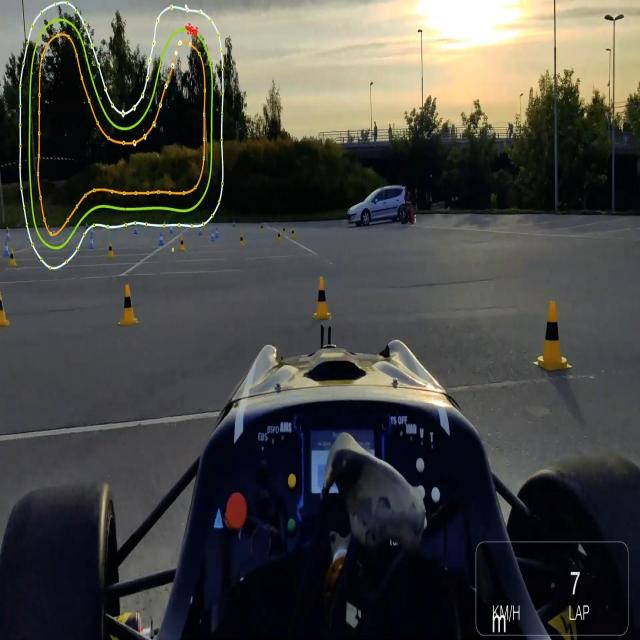blue_cone: (158, 231, 166, 246), (2, 242, 10, 257), (88, 234, 95, 250), (4, 228, 11, 241), (210, 228, 216, 242), (198, 224, 204, 236), (214, 226, 220, 237), (132, 223, 138, 234), (169, 223, 174, 233)
yellow_cone: (538, 300, 568, 369), (119, 282, 138, 327), (314, 274, 330, 324), (0, 289, 12, 326), (106, 240, 115, 260), (9, 248, 18, 266), (238, 231, 245, 247), (180, 234, 186, 252), (277, 230, 283, 243), (290, 226, 296, 239), (282, 226, 287, 237), (260, 223, 264, 232)
